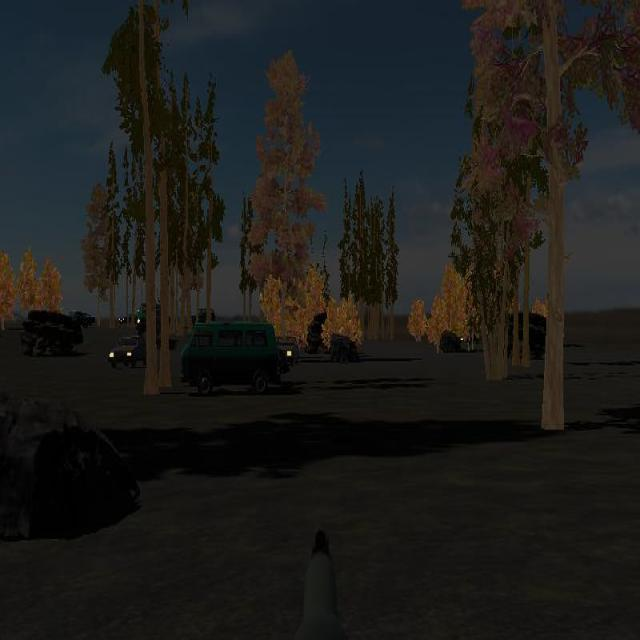car: (181, 320, 282, 396), (109, 333, 150, 370)
